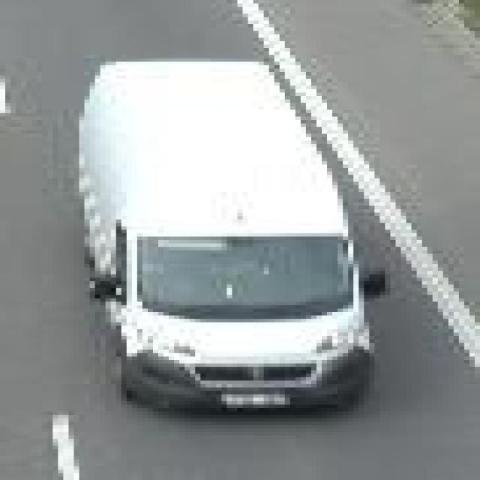van: (80, 60, 375, 417)
